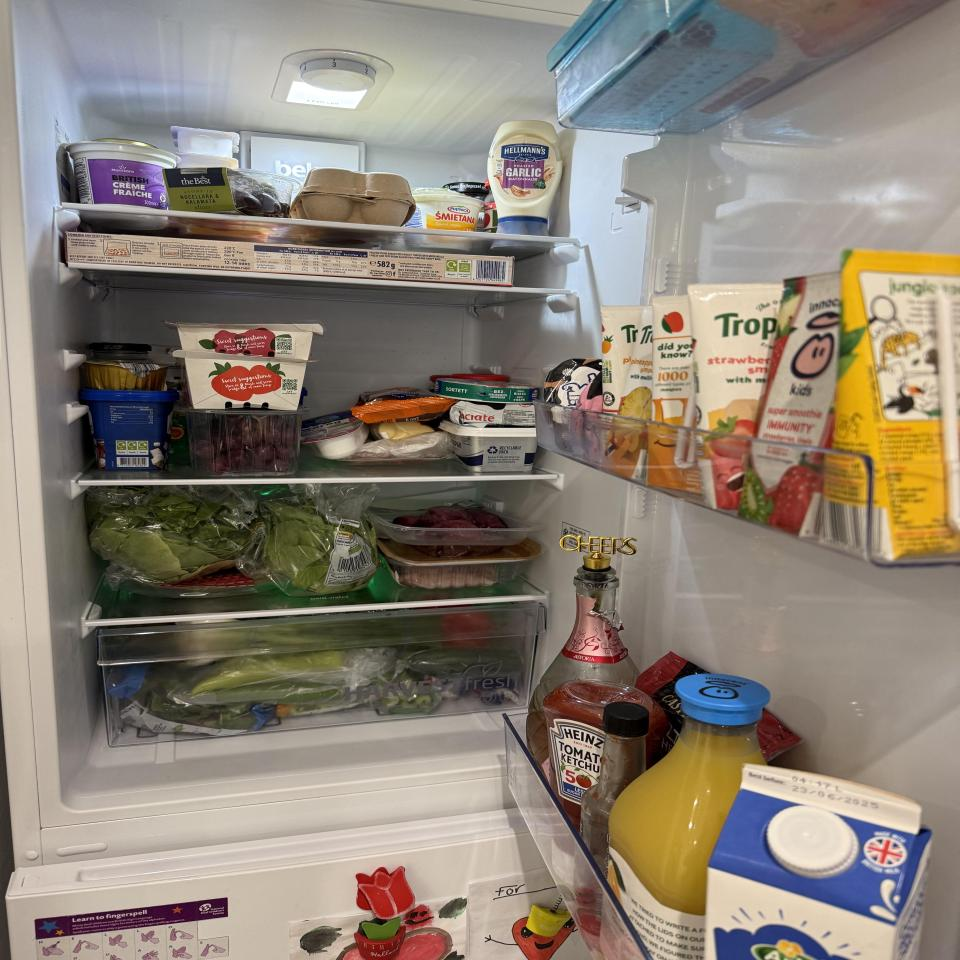Huevos: (289, 168, 416, 226)
Leche: (702, 761, 935, 960)
Lechuga/Endivia: (88, 484, 257, 584), (260, 494, 379, 595)
Mantequilla: (450, 401, 538, 427)
Pepino: (396, 648, 522, 676)
Yogur: (63, 142, 182, 230), (402, 187, 484, 252)
